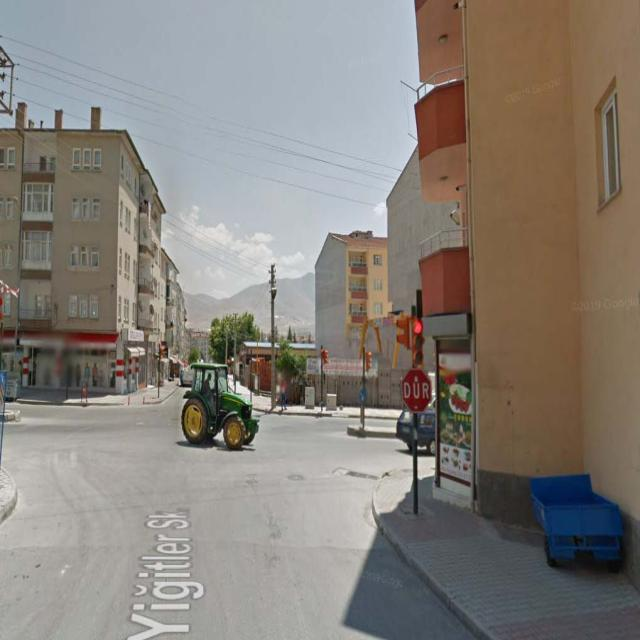dur: (402, 370, 431, 411)
kirmizi: (413, 318, 424, 362)
